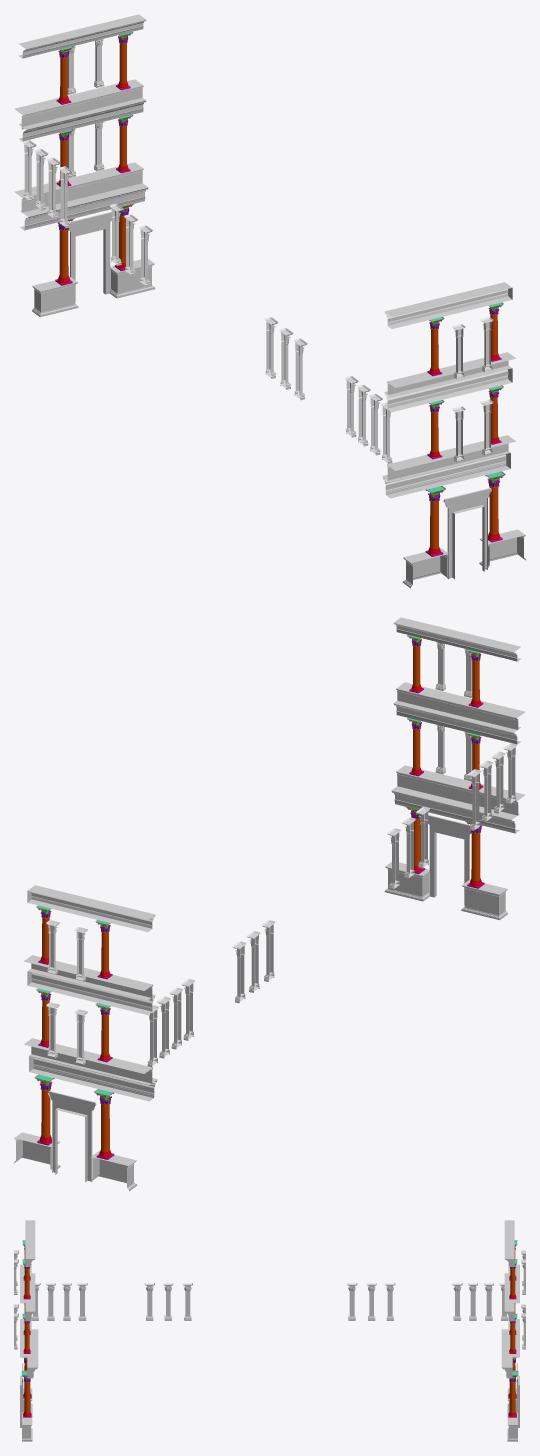
The model's file is Decoration Murs de scene cotes.fbx.
The picture shows the model from 3 angles, top to bottom: view 1: azimuth 30°, elevation 25°; view 2: azimuth 150°, elevation 25°; view 3: azimuth 270°, elevation 25°; orthographic projection. The views are drawn at different scales.
Visible parts, largest first — view 1: Fut.016, Entablement_Bas_1.001, Cube.282, Fut.018, Fut.007, Cube.284, Entablement_Bas_1.002, Fut.017, Fut.005, Fut.006, Cube.281, Linteau_Central.001 (+5 smaller); view 2: Fut.017, Entablement_Bas_1.002, Fut.005, Cube.283, Fut.006, Cube.281, Entablement_Bas_1.001, Fut.016, Fut.018, Fut.007, Cube.284, Linteau_Central.002 (+5 smaller); view 3: Fut.016, Fut.017, Entablement_Bas_1.001, Entablement_Bas_1.002, Fut.005, Fut.018, COL_Côté_Gauche_Bas_1, COL_Côté_Droit_Bas_1, Fut.007, Fut.006, Cube.283, Cube.282 (+2 smaller).
Boxes of the visible parts, x1,y1,x2,y2 form: Fut.016: [384, 282, 512, 328]; Entablement_Bas_1.001: [382, 451, 510, 498]; Cube.282: [14, 79, 143, 129]; Fut.018: [32, 259, 155, 317]; Fut.007: [384, 365, 512, 411]; Cube.284: [14, 162, 143, 212]; Entablement_Bas_1.002: [20, 183, 148, 230]; Fut.017: [18, 14, 146, 58]; Fut.005: [402, 529, 525, 588]; Fut.006: [18, 97, 146, 141]; Cube.281: [387, 435, 515, 480]; Linteau_Central.001: [443, 488, 491, 579]; Fut.017: [27, 885, 155, 931]; Entablement_Bas_1.002: [29, 1054, 157, 1101]; Fut.005: [384, 862, 507, 920]; Cube.283: [396, 682, 525, 729]; Fut.006: [27, 968, 155, 1014]; Cube.281: [396, 765, 525, 815]; Entablement_Bas_1.001: [391, 786, 519, 833]; Fut.016: [393, 617, 521, 661]; Fut.018: [14, 1132, 137, 1191]; Fut.007: [393, 700, 521, 744]; Cube.284: [24, 1038, 152, 1083]; Linteau_Central.002: [48, 1091, 96, 1182]; Fut.016: [25, 1220, 35, 1266]; Fut.017: [504, 1220, 514, 1266]; Entablement_Bas_1.001: [27, 1329, 38, 1378]; Entablement_Bas_1.002: [501, 1329, 512, 1378]; Fut.005: [22, 1388, 32, 1441]; Fut.018: [507, 1388, 517, 1441]; COL_Côté_Gauche_Bas_1: [21, 1370, 31, 1417]; COL_Côté_Droit_Bas_1: [508, 1370, 518, 1417]; Fut.007: [25, 1273, 35, 1321]; Fut.006: [504, 1273, 514, 1321]; Cube.283: [20, 1264, 31, 1305]; Cube.282: [508, 1264, 519, 1305].
Bounding box in the file's own units: 1223 × 2426 × 6281.
